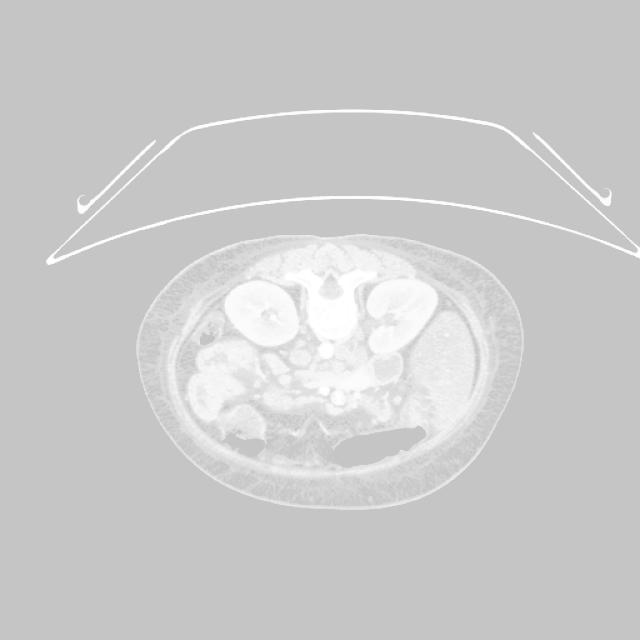NORMAL: (136, 205, 524, 517)
